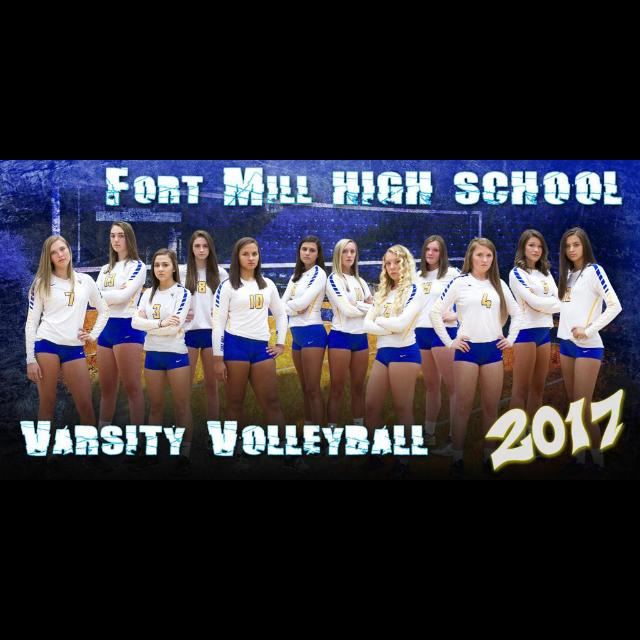head: (24, 233, 110, 474), (93, 220, 145, 462), (468, 238, 498, 274), (563, 227, 591, 263), (386, 244, 410, 282), (236, 236, 260, 270), (521, 230, 545, 264), (154, 250, 178, 282), (334, 238, 358, 270), (191, 230, 213, 260), (424, 236, 446, 264), (300, 237, 320, 265)
person: (428, 237, 524, 471), (24, 233, 110, 474), (547, 223, 625, 477), (212, 234, 288, 466), (404, 234, 470, 472), (363, 241, 431, 469), (130, 246, 194, 474), (506, 221, 564, 467), (173, 228, 231, 468), (93, 220, 145, 462), (325, 238, 379, 464), (276, 235, 328, 463)
